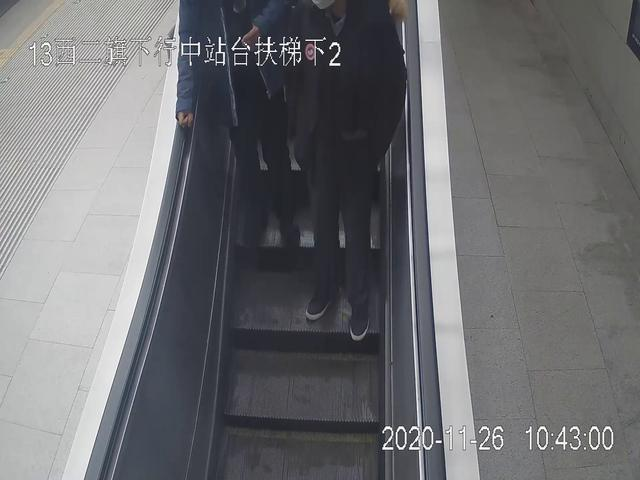person: (294, 1, 406, 340), (176, 1, 301, 249)
